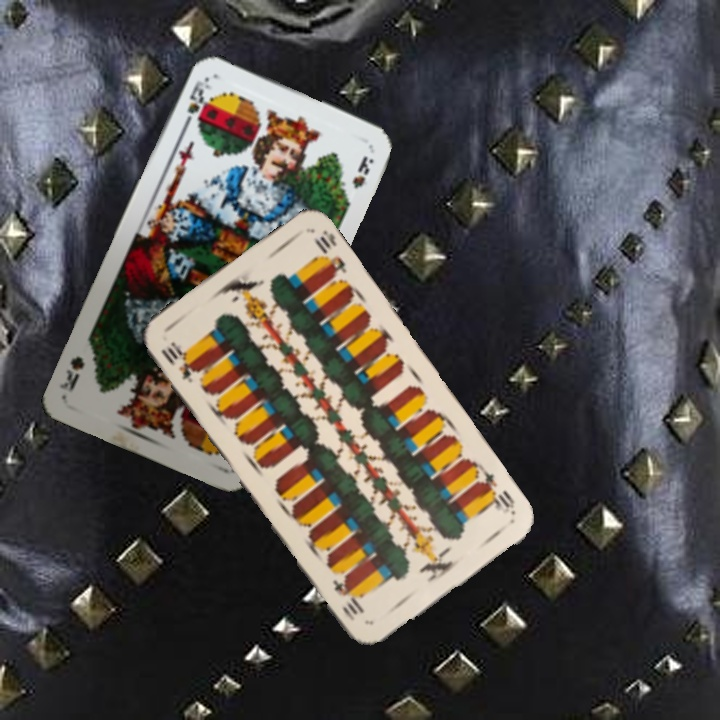E10: (473, 466, 519, 518), (156, 337, 201, 386)
SK: (178, 76, 211, 132)
